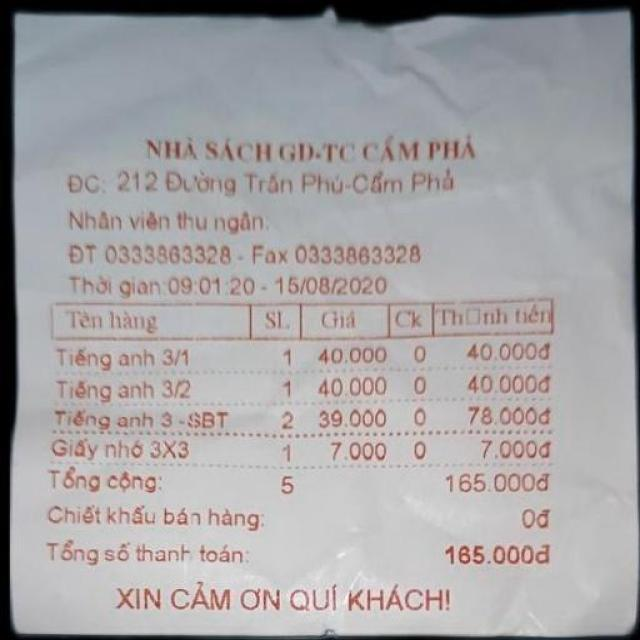Date: (275, 272, 390, 298)
Store_Name: (141, 132, 486, 168)
amount_number: (444, 544, 538, 567)
label_total: (43, 537, 246, 569)
